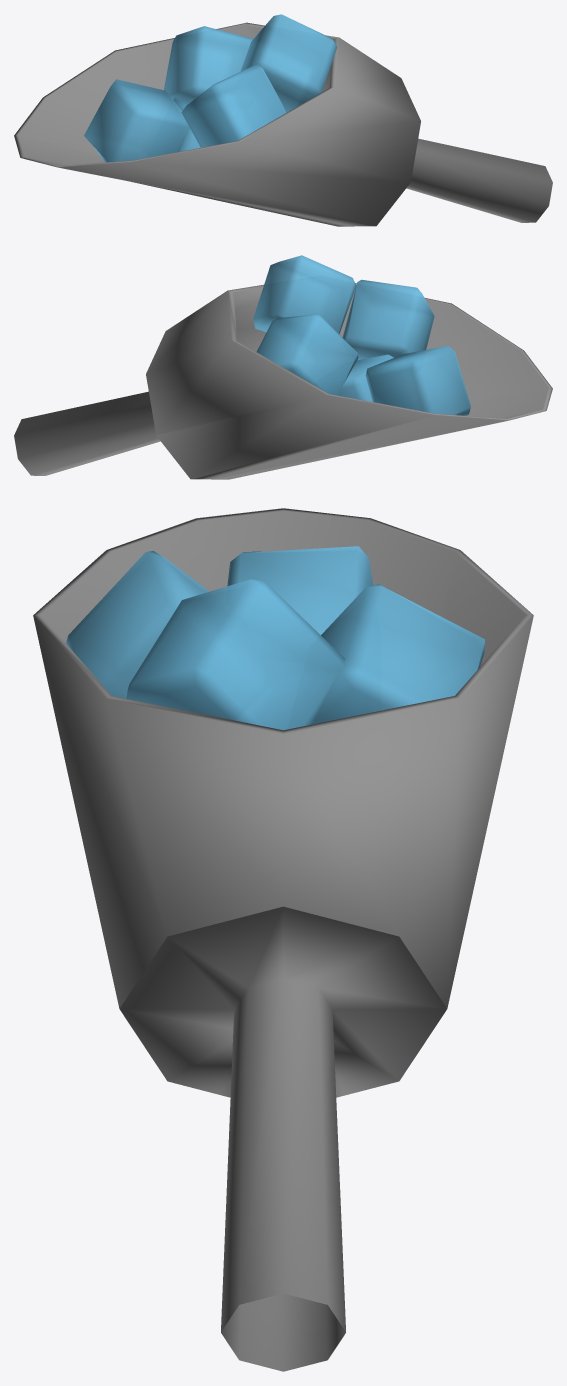
File: full ice scoop.glb
3 renders of one model, top to bottom at view 1: azimuth 30°, elevation 25°; view 2: azimuth 150°, elevation 25°; view 3: azimuth 270°, elevation 25°, orthographic. The views are drawn at different scales.
Visible parts, largest first — view 1: Scoop, IceCube1.005, IceCube1.003, IceCube1.002, IceCube1.001, IceCube1.006; view 2: Scoop, IceCube1.002, IceCube1.005, IceCube1.003, IceCube1.001, IceCube1.006; view 3: Scoop, IceCube1.003, IceCube1.001, IceCube1.002, IceCube1.005.
Part boxes in pixels (x1,y1,x2,y2): Scoop: (14, 22, 552, 226); IceCube1.005: (84, 79, 189, 162); IceCube1.003: (240, 14, 337, 112); IceCube1.002: (181, 64, 286, 147); IceCube1.001: (164, 26, 253, 100); IceCube1.006: (173, 96, 200, 151); Scoop: (14, 283, 552, 479); IceCube1.002: (342, 279, 434, 360); IceCube1.005: (365, 346, 470, 415); IceCube1.003: (253, 255, 356, 333); IceCube1.001: (256, 314, 358, 395); IceCube1.006: (339, 354, 393, 401); Scoop: (33, 508, 533, 1371); IceCube1.003: (125, 579, 344, 730); IceCube1.001: (312, 584, 484, 724); IceCube1.002: (66, 551, 209, 698); IceCube1.005: (227, 546, 372, 634).
Bounding box in the file's own units: 6.93 × 3.47 × 2.86.
